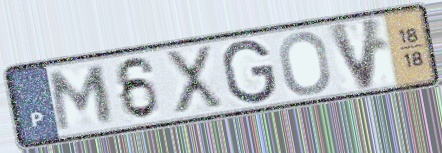6: (114, 56, 161, 122)
G: (219, 37, 279, 106)
M: (48, 62, 117, 134)
O: (276, 30, 334, 98)
V: (324, 14, 386, 94)
X: (162, 42, 227, 116)
